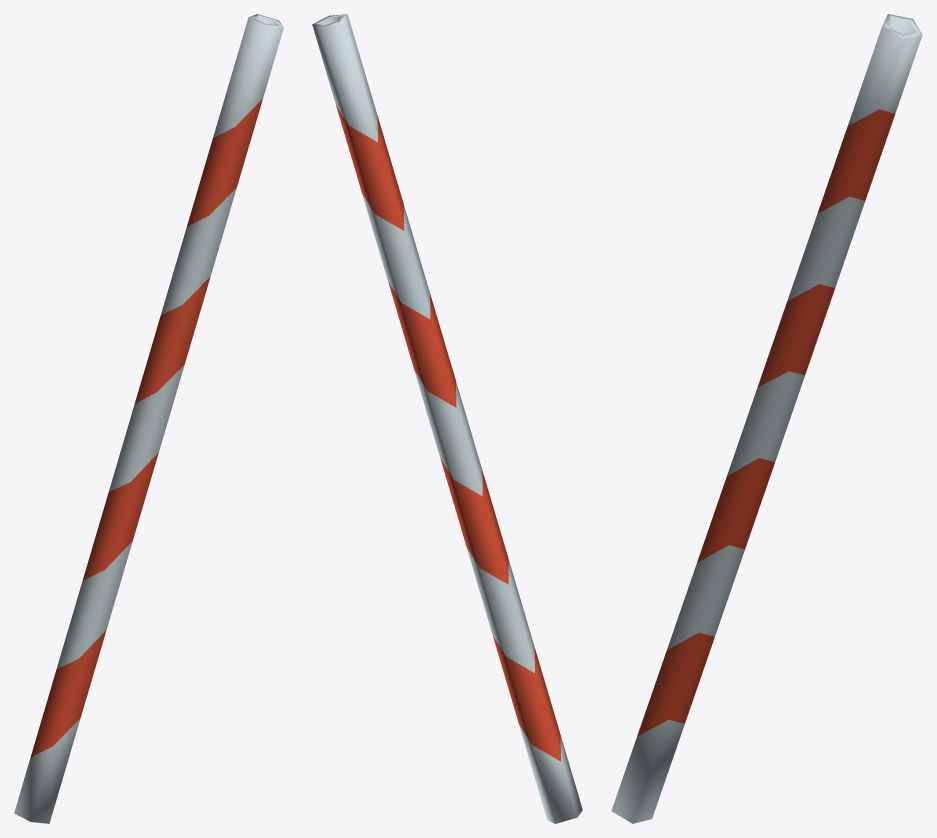
The model's file is straw.fbx.
3 views of the same model, side by side, from view 1: azimuth 30°, elevation 25°; view 2: azimuth 150°, elevation 25°; view 3: azimuth 330°, elevation 25° (orthographic). The views are drawn at different scales.
Parts seen in each view (by area): view 1: Straw; view 2: Straw; view 3: Straw.
Part boxes in pixels (x1,y1,x2,y2): Straw: (14,14,283,823); Straw: (312,14,582,823); Straw: (611,14,922,823).
Bounding box in the file's own units: 8.92 × 24.08 × 1.05.
